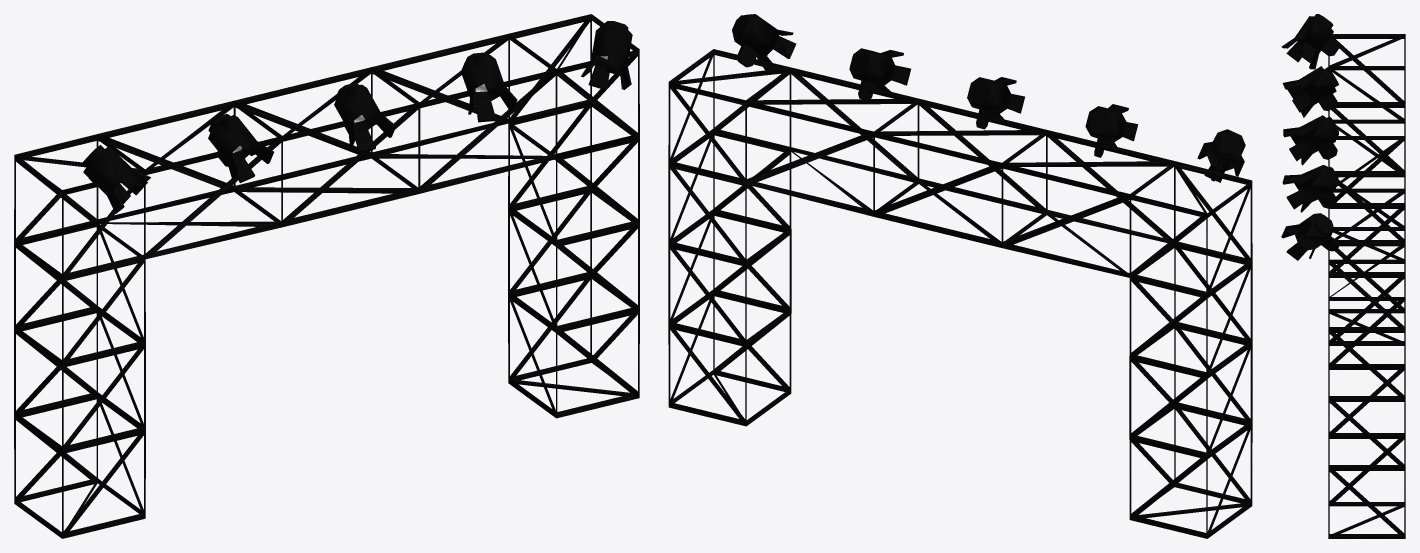
The model's file is StageTrussDarkLighting.glb.
The picture shows the model from 3 angles, left to right: view 1: azimuth 30°, elevation 25°; view 2: azimuth 150°, elevation 25°; view 3: azimuth 270°, elevation 25°; orthographic projection. The views are drawn at different scales.
Parts seen in each view (by area): view 1: StageTrussDarkLighting; view 2: StageTrussDarkLighting; view 3: StageTrussDarkLighting.
Part boxes in pixels (bbox=[...]): StageTrussDarkLighting: bbox=[14, 14, 639, 538]; StageTrussDarkLighting: bbox=[668, 14, 1252, 538]; StageTrussDarkLighting: bbox=[1281, 14, 1405, 538].
Size of the model in its own units: 14.03 by 9.03 by 3.27.
1 material, 1 textured.
